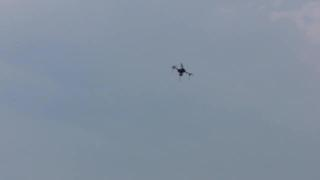UAV: (171, 63, 194, 82)
